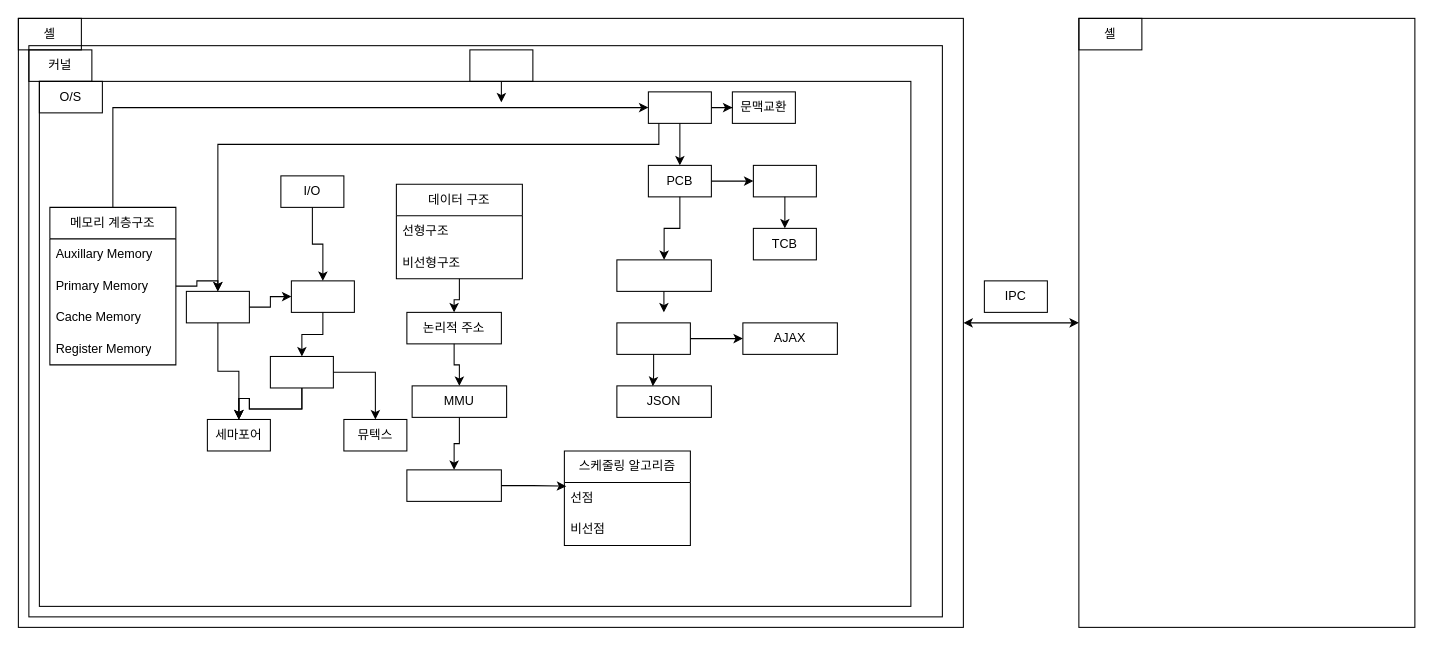
The diagram is 1433 pixels wide and 646 high, and some of its shapes have lost their labels. The shapes that lost their labels are listed below. From the top down, each one's box as (x1, y1, x2, y2) in pixels, then its label:
(469, 49, 533, 81): 컴파일러
(647, 91, 711, 123): 프로세스
(752, 164, 816, 197): 스레드
(616, 259, 711, 291): 동기/비동기
(185, 290, 249, 323): 인터럽트
(290, 280, 354, 312): 오버헤드
(616, 322, 690, 354): Key/Value
(269, 355, 333, 388): 데드록
(406, 469, 501, 501): 물리적 주소
